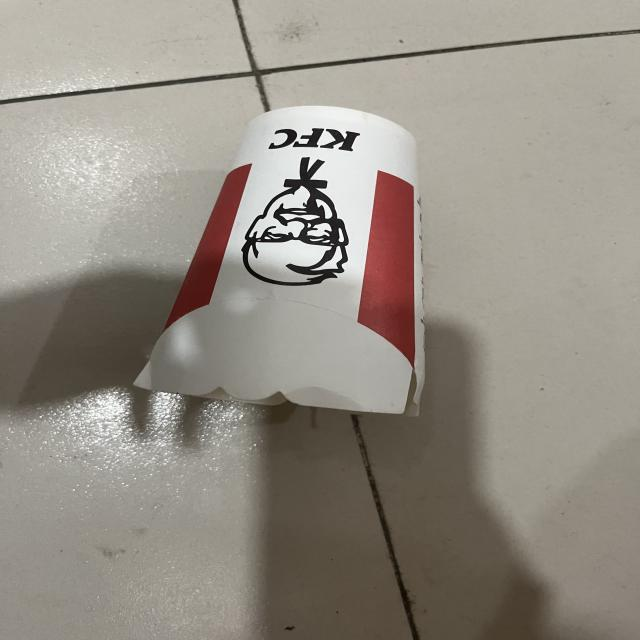cardboard box: (135, 104, 428, 417)
